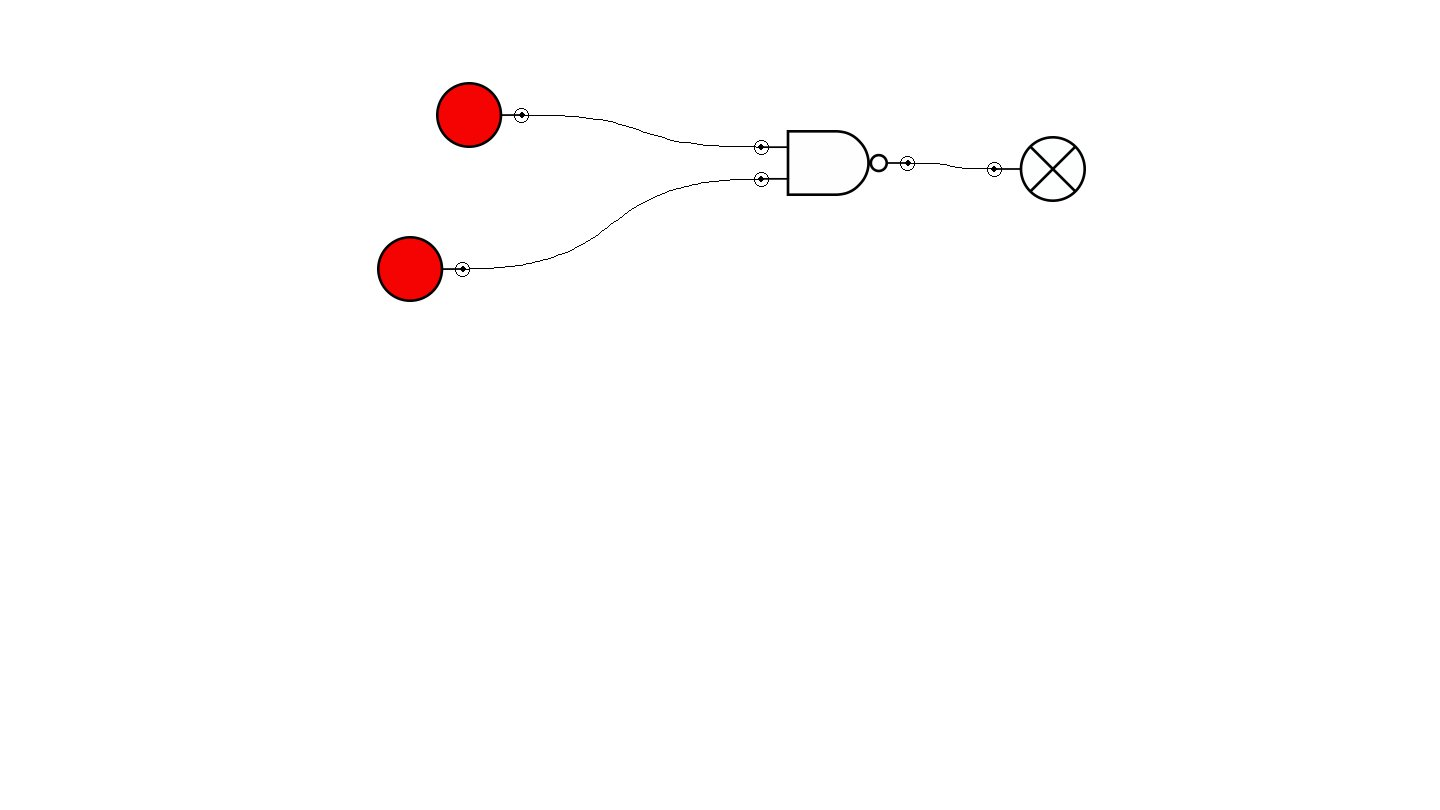bulb: (987, 136, 1086, 202)
nand: (754, 130, 915, 196)
switch_False: (377, 236, 470, 302), (436, 82, 529, 148)
